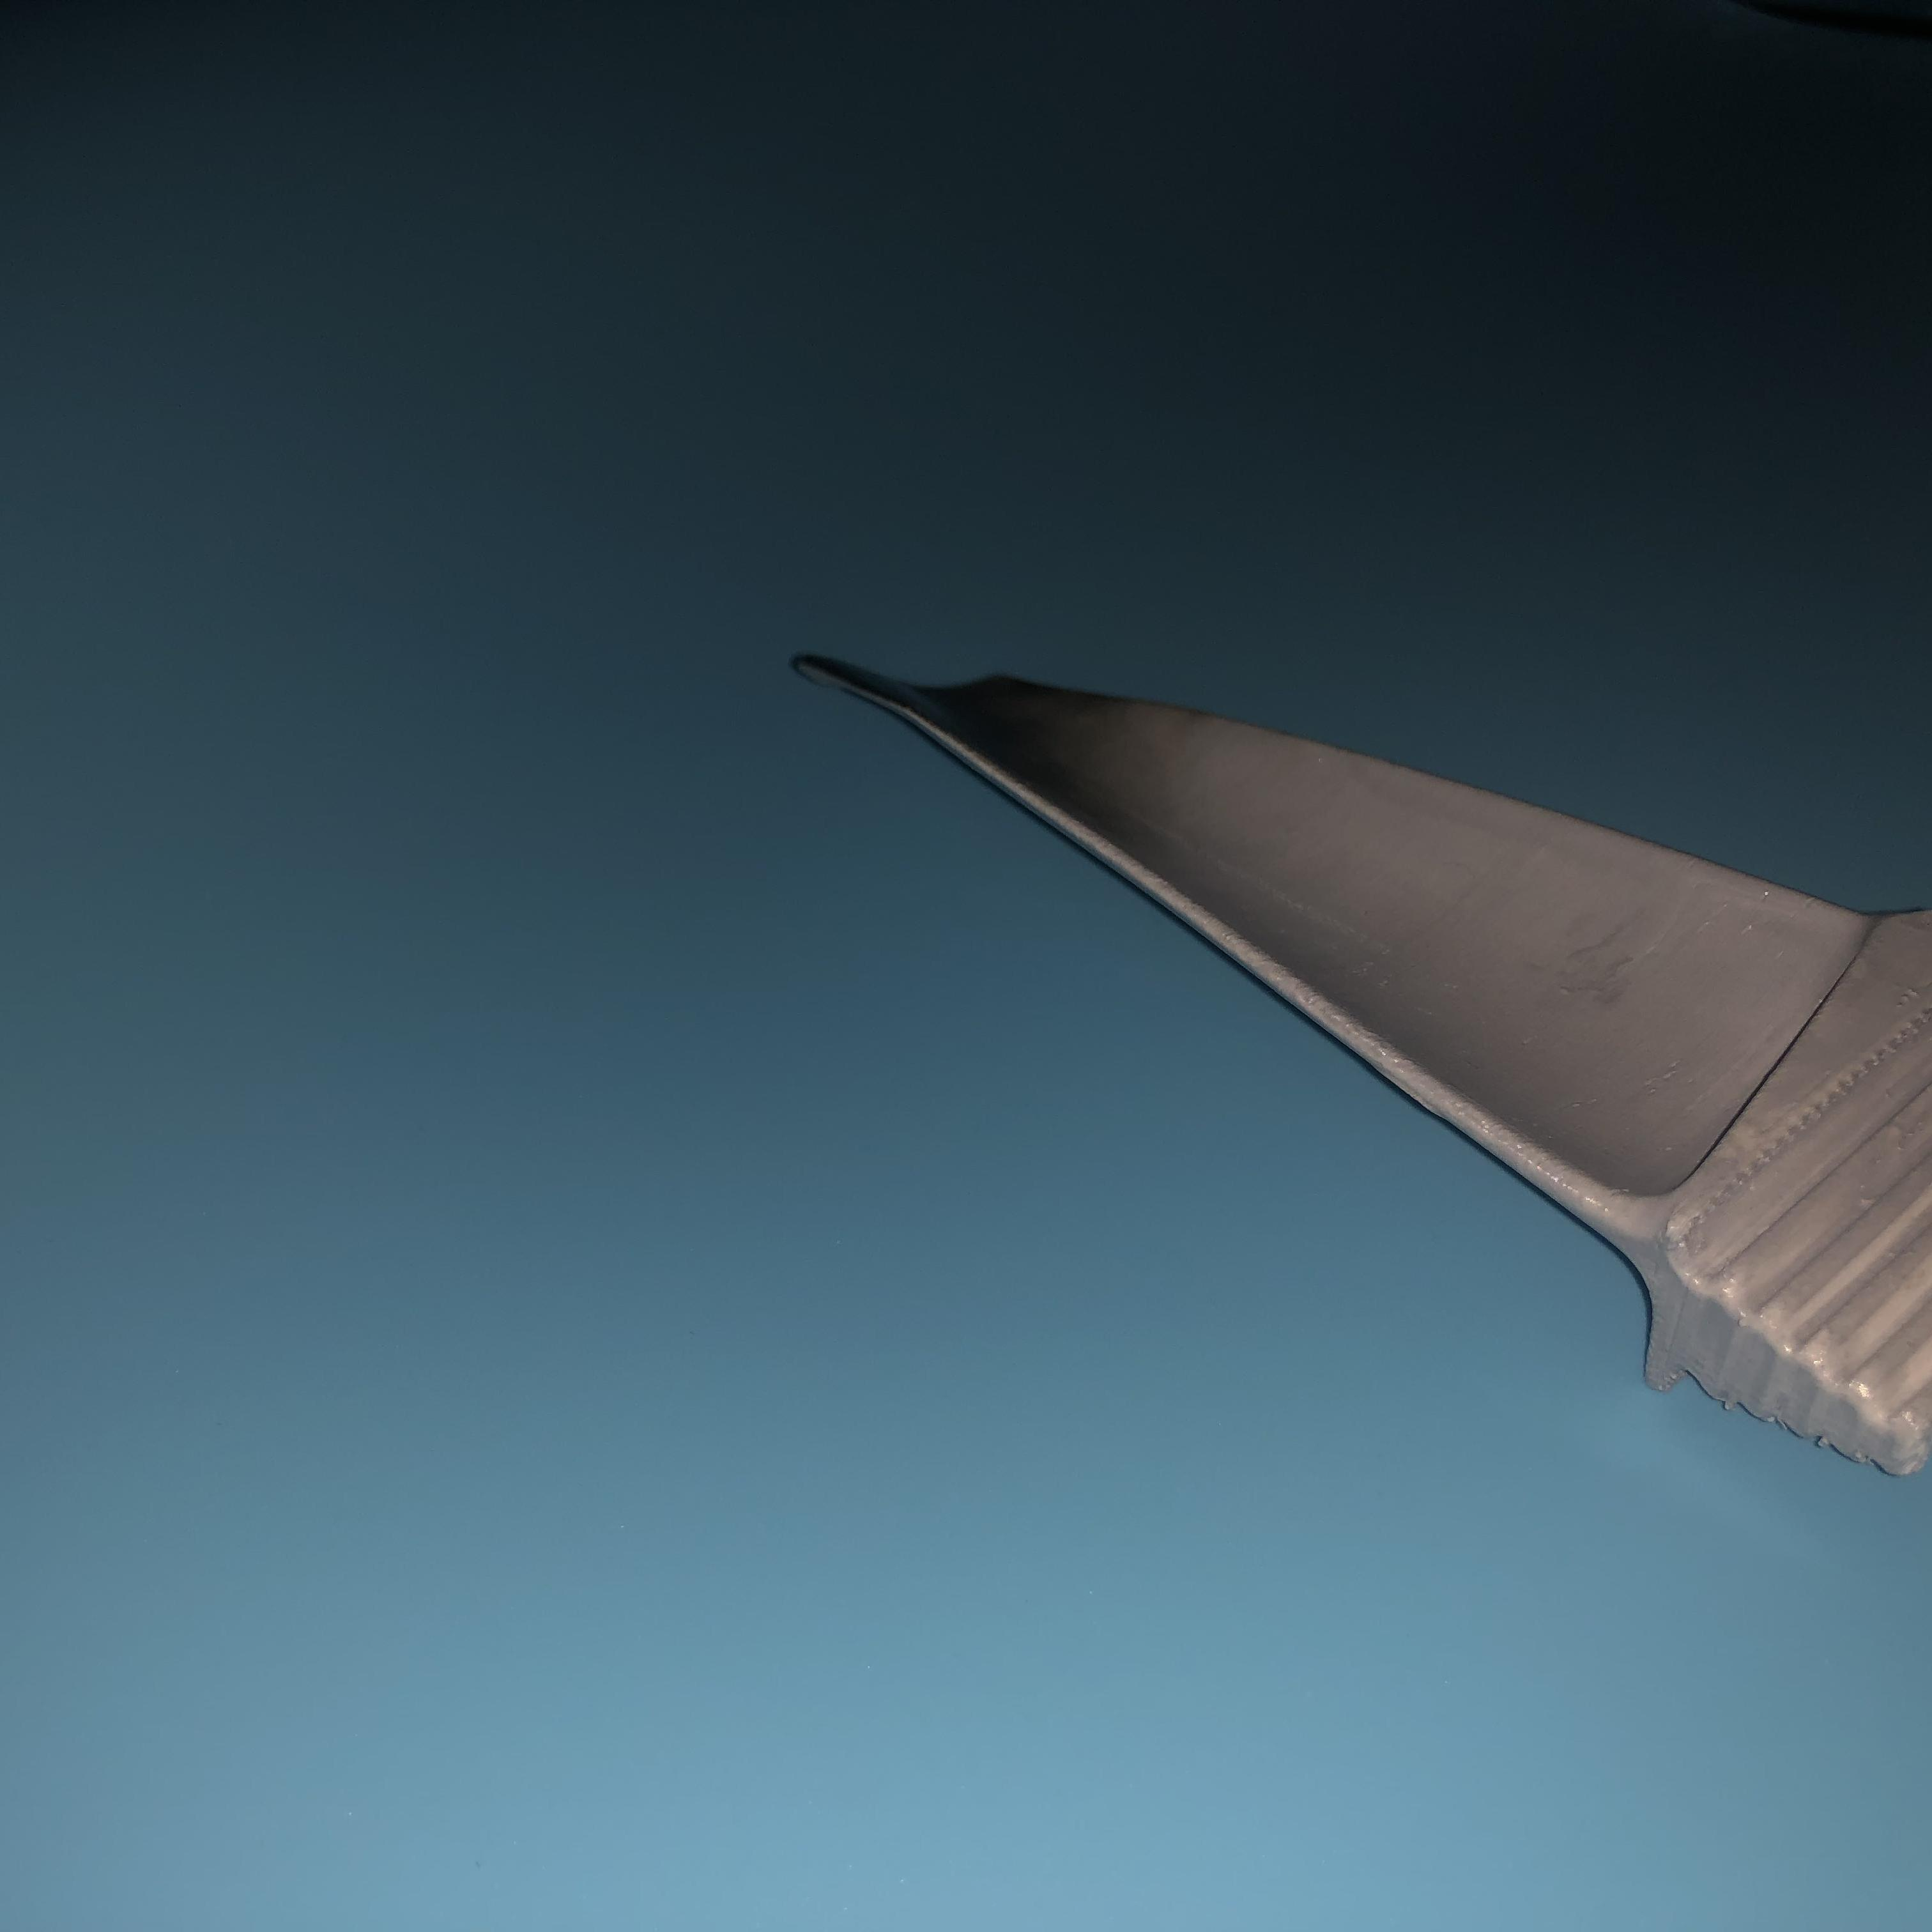ablation: (855, 655, 1161, 805)
